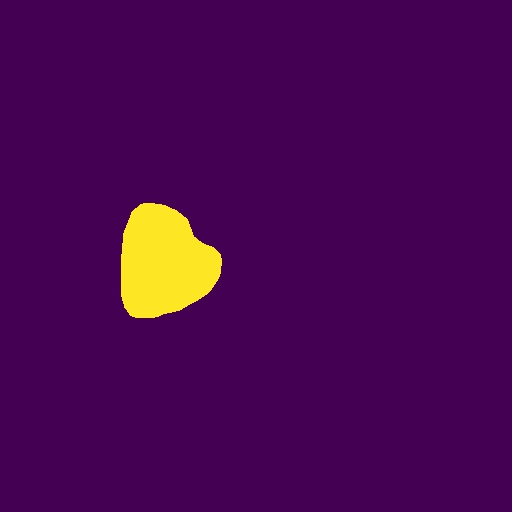Gliomia_tumour: (121, 203, 222, 318)
